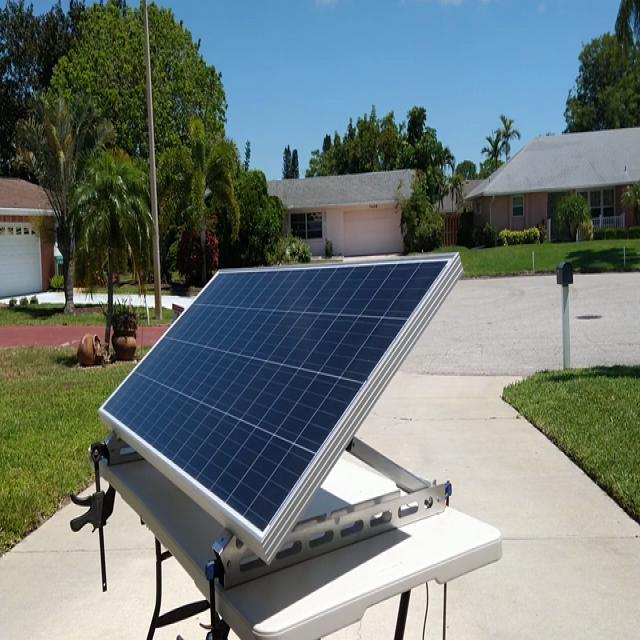Normal Solar Panel: (99, 254, 458, 541)
